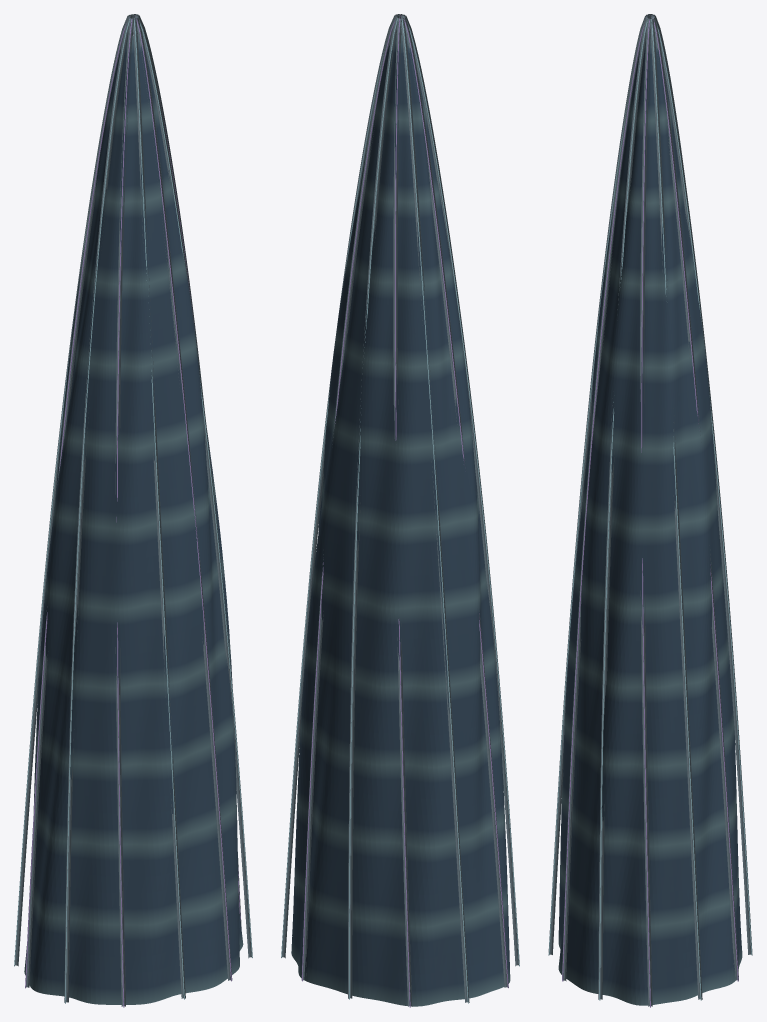
Rendered from hexcore_tower_sculpted.glb.
3 views of the same model, side by side, from view 1: azimuth 30°, elevation 25°; view 2: azimuth 150°, elevation 25°; view 3: azimuth 270°, elevation 25° (orthographic).
Visible parts, largest first — view 1: world; view 2: world; view 3: world.
Boxes of the visible parts, x1,y1,x2,y2 form: world: [14, 14, 252, 1007]; world: [281, 14, 519, 1007]; world: [548, 14, 752, 1007].
Size of the model in its own units: 71.93 by 300 by 59.15.
